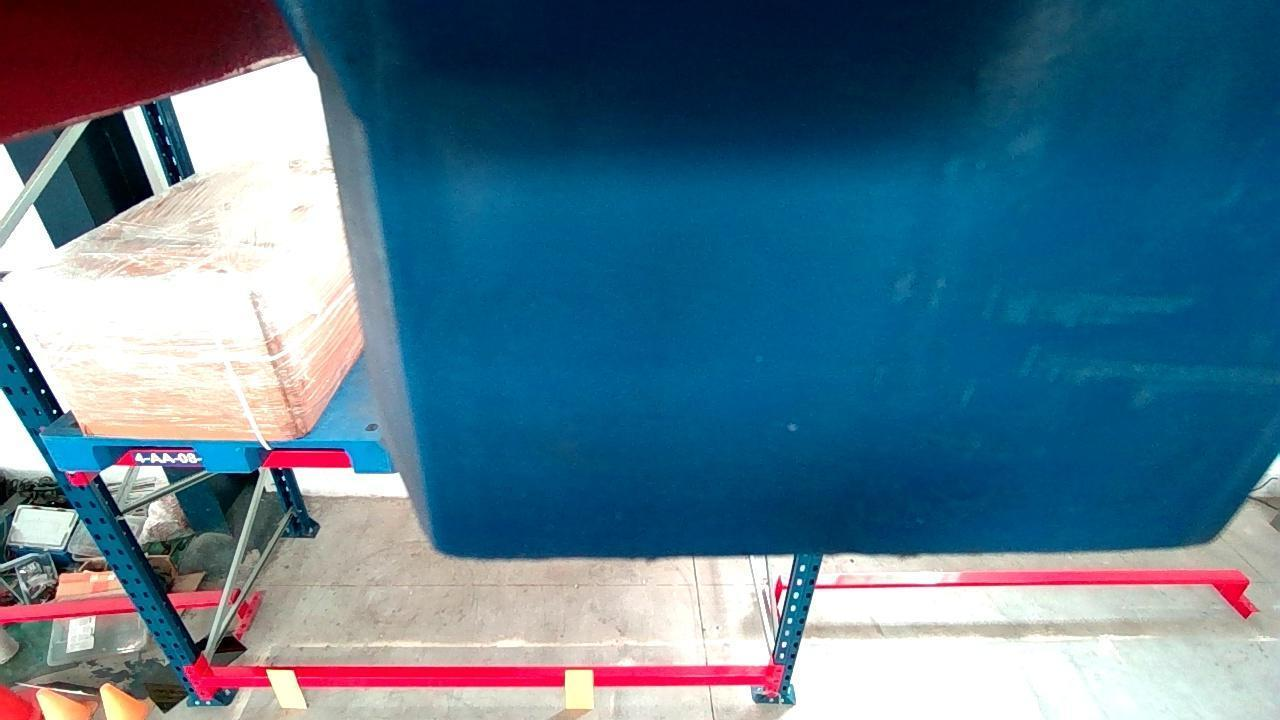h_rack: (201, 676, 771, 688)
orange_strip: (263, 667, 305, 709), (564, 668, 594, 712)
small_pallet: (41, 435, 392, 473)
